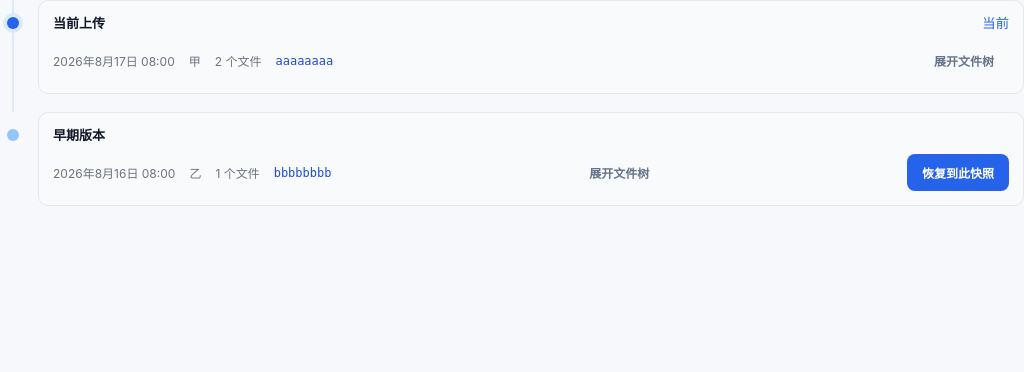
Test: SnapshotTimeline › 渲染时间线并仅在展开时加载文件树
Check: the text "当前上传" is shown, box x1=53 y1=13 x2=105 y2=32
Check: the text "当前" is shown, box x1=982 y1=13 x2=1009 y2=32
Click the 2nd button "展开文件树": x=619, y=172 x1=574 y1=154 x2=664 y2=191
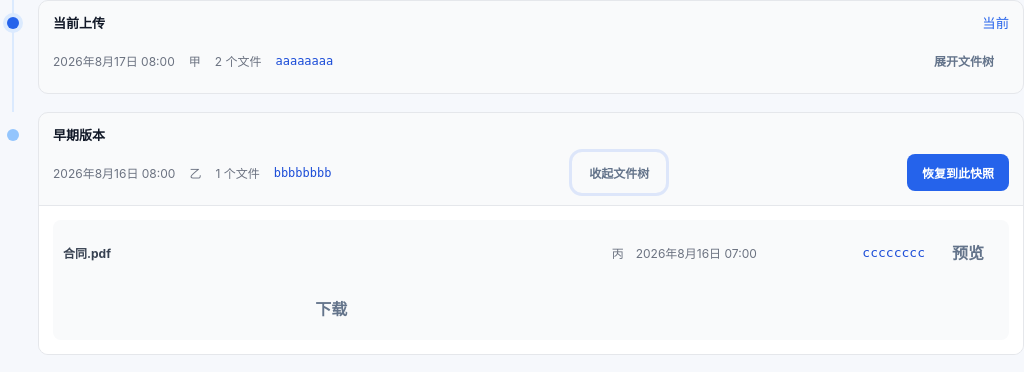
Check: the text "合同.pdf" is shown, box x1=63 y1=246 x2=111 y2=260
